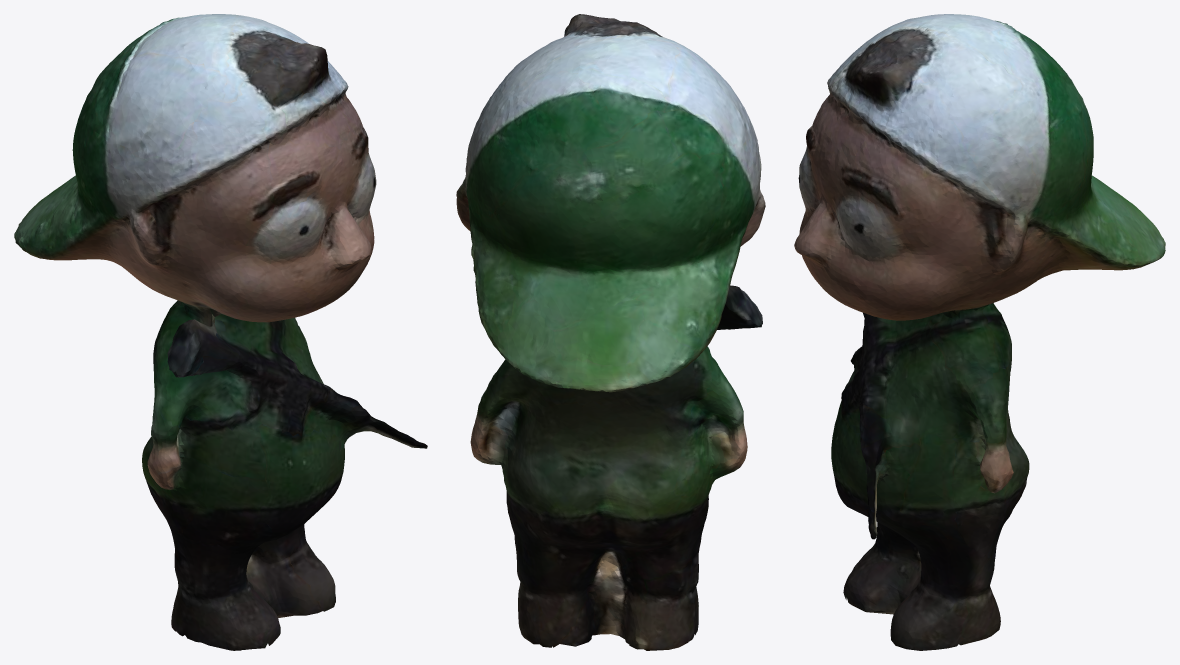
Rendered from Kyle good-2048.glb.
3 renders of one model, left to right at view 1: azimuth 30°, elevation 25°; view 2: azimuth 150°, elevation 25°; view 3: azimuth 270°, elevation 25°, orthographic. The views are drawn at different scales.
Bounding box in the file's own units: 0.0532 × 0.0966 × 0.0565.
Materials: 1 (1 with a texture image).
